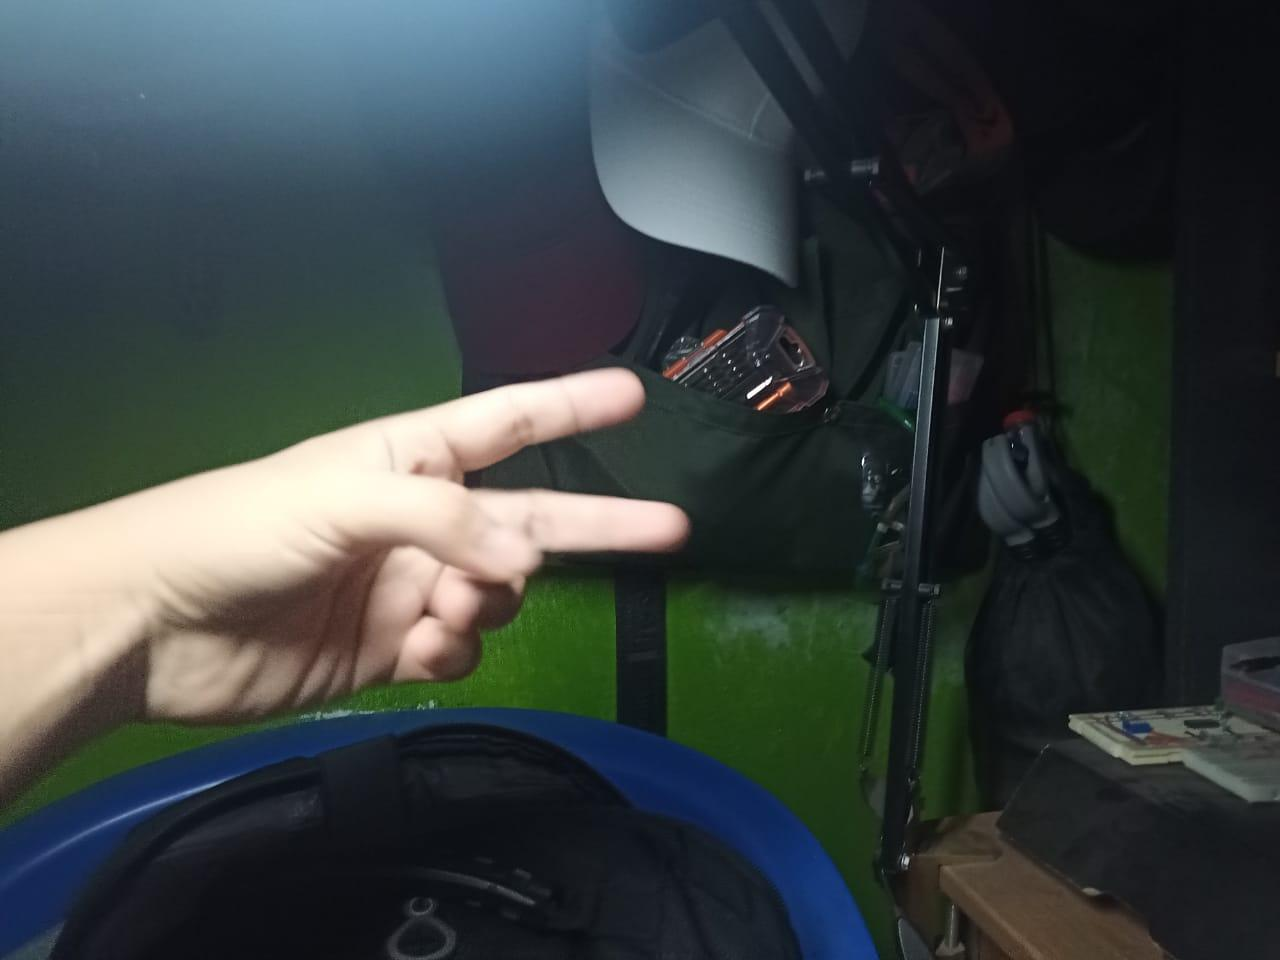Scissor: (0, 370, 699, 812)
